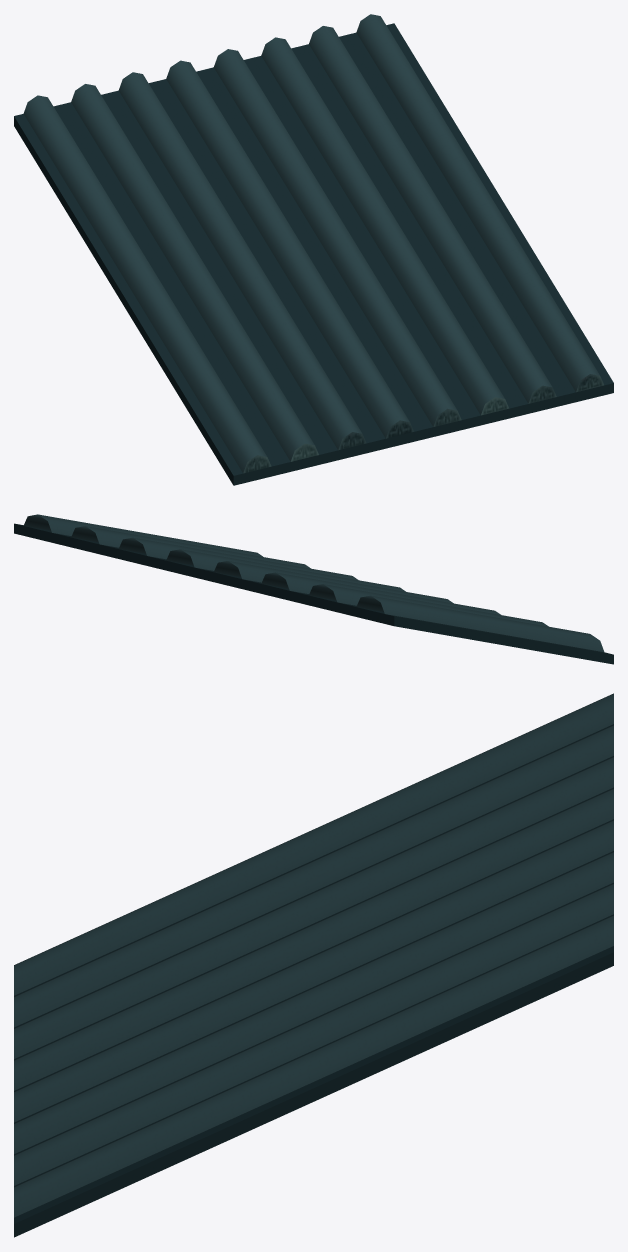
The model's file is out-g-wall-c.fbx.
3 views of the same model, one above another, from view 1: azimuth 30°, elevation 25°; view 2: azimuth 150°, elevation 25°; view 3: azimuth 270°, elevation 25° (orthographic). The views are drawn at different scales.
Parts seen in each view (by area): view 1: Plane.002_Baked; view 2: Plane.002_Baked; view 3: Plane.002_Baked.
Part boxes in pixels (x1,y1,x2,y2): Plane.002_Baked: [14, 14, 613, 485]; Plane.002_Baked: [14, 514, 613, 664]; Plane.002_Baked: [14, 693, 613, 1237].
Size of the model in its own units: 400 by 225 by 400.
Materials: 1 (1 with a texture image).
